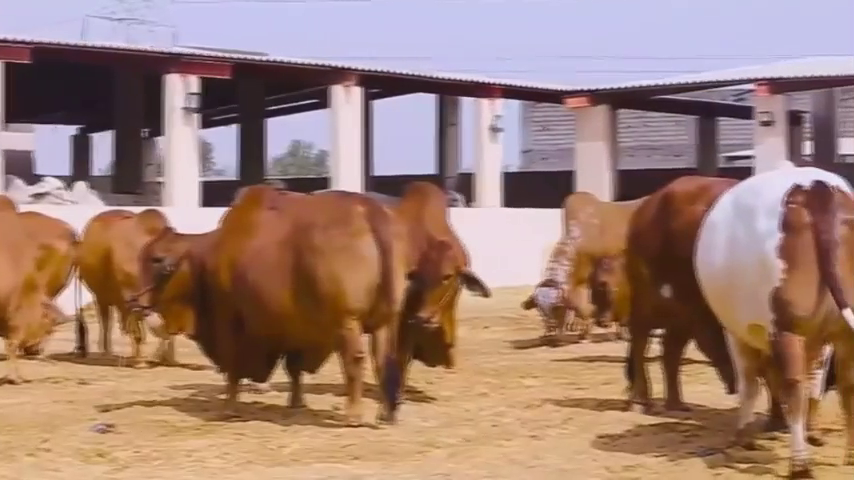bo: (134, 183, 405, 435), (686, 155, 849, 472), (602, 151, 733, 426), (373, 161, 489, 381), (69, 193, 187, 362), (525, 190, 643, 351), (6, 199, 79, 394), (579, 255, 634, 326)
